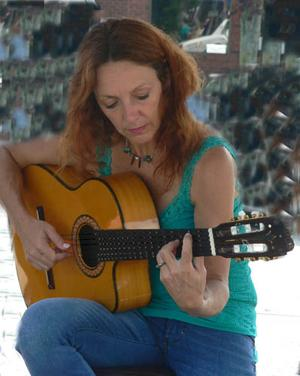person: (2, 19, 259, 376)
